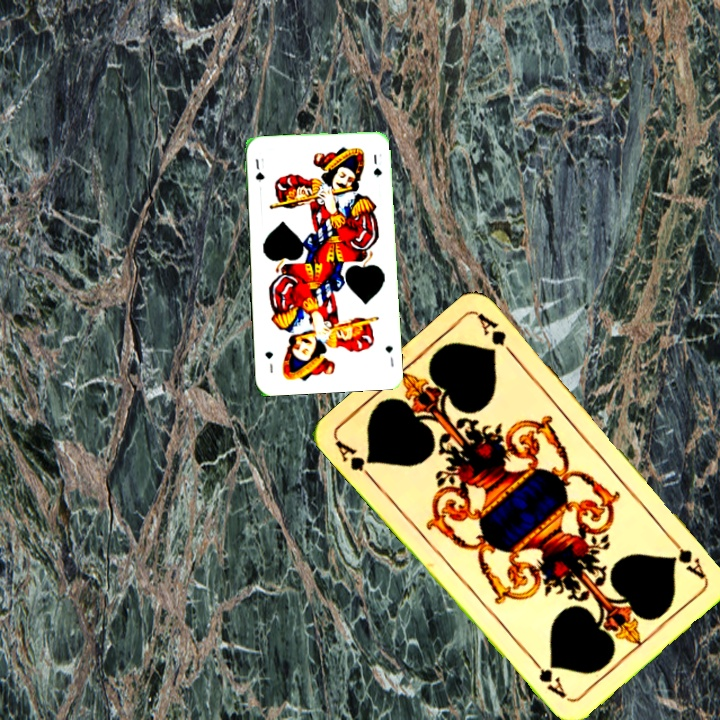GA: (331, 436, 377, 485), (664, 531, 708, 582)
GU: (251, 155, 267, 185), (381, 342, 396, 370)
